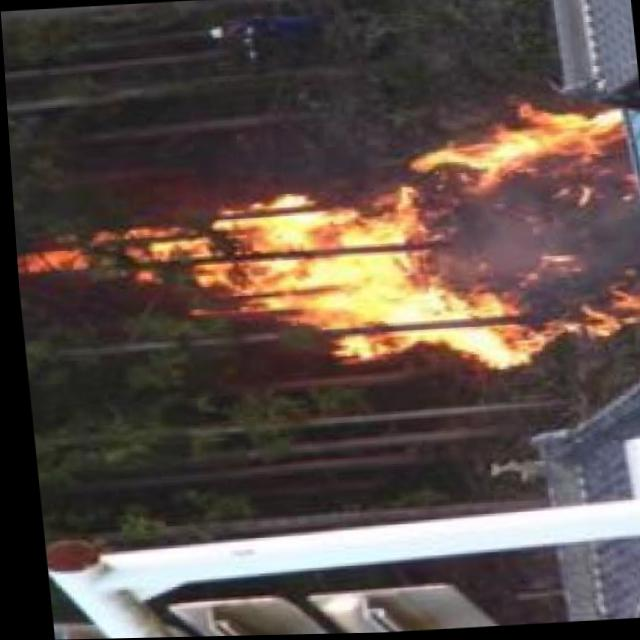Fire: (58, 110, 640, 385)
